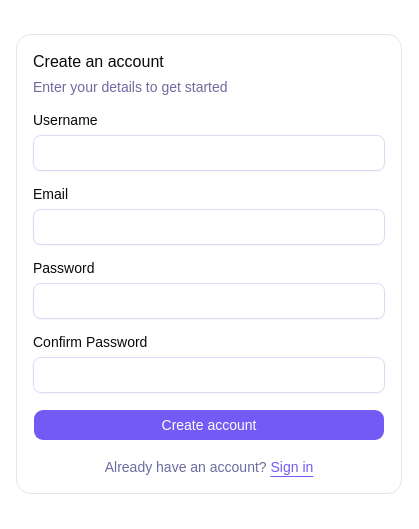
Test: SignupPage › shows error if passwords do not match
Type "pass1" into the password field labelled "Password" at (209,301), box [33,283,385,319]
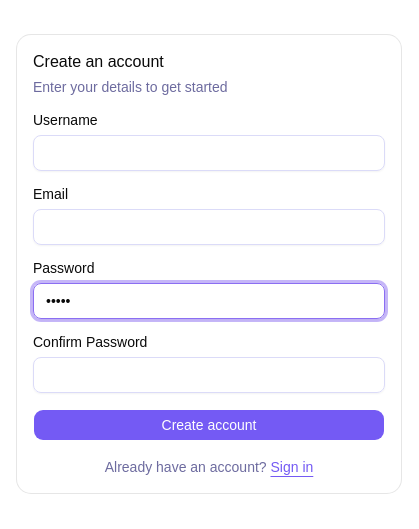
Type "pass2" into the password field labelled "Confirm Password" at (209,375), box [33,357,385,393]
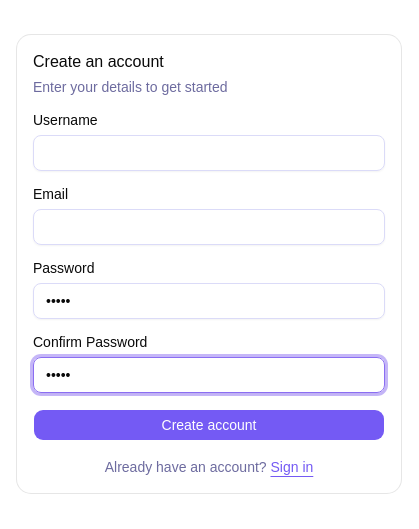
Submit the form "Username Email Password Confirm Password Create account", box [33,113,385,441]
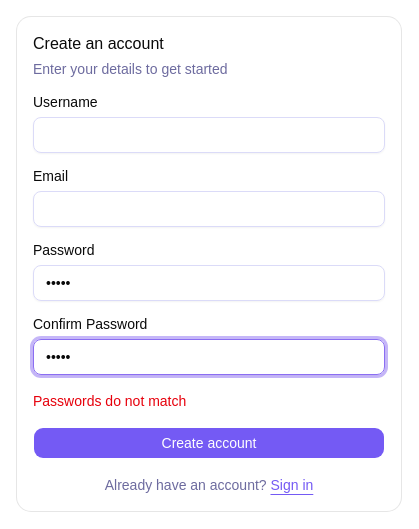
Check: the text "Passwords do not match" is shown, box [33,393,186,409]
